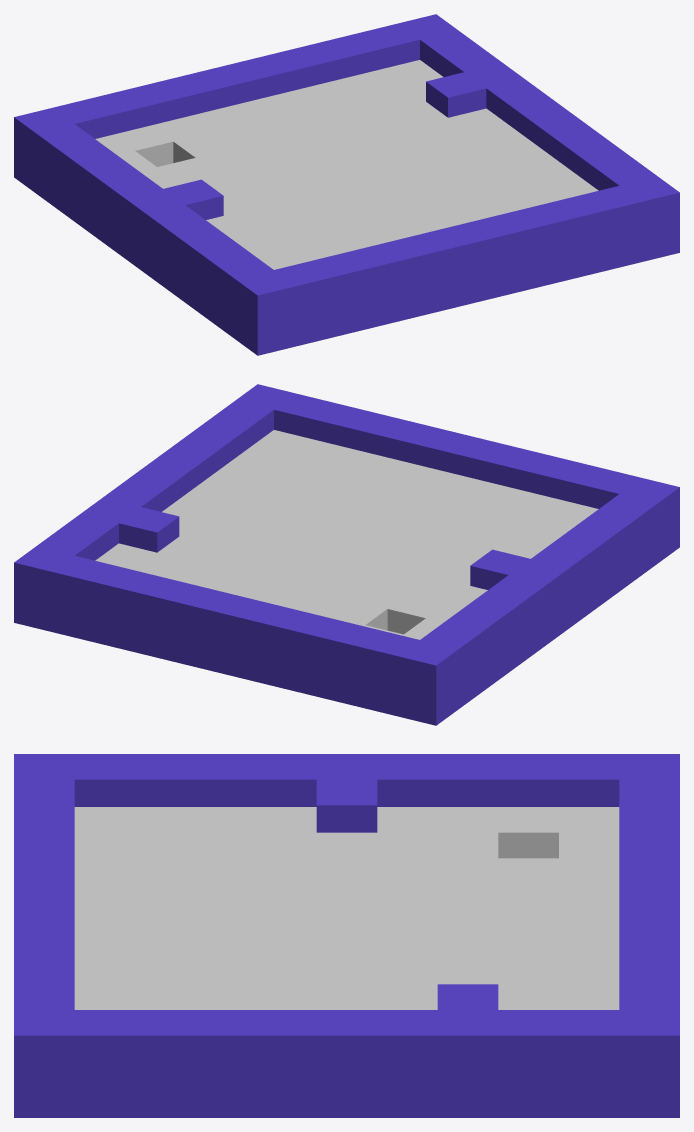
File: platform_001.fbx
3 renders of one model, top to bottom at view 1: azimuth 30°, elevation 25°; view 2: azimuth 150°, elevation 25°; view 3: azimuth 270°, elevation 25°, orthographic. The views are drawn at different scales.
Parts seen in each view (by area): view 1: Cube.001; view 2: Cube.001; view 3: Cube.001.
Boxes of the visible parts, x1,y1,x2,y2 form: Cube.001: (14,14,679,355); Cube.001: (14,384,679,725); Cube.001: (14,754,679,1117).
Size of the model in its own units: 1100 by 150 by 1100.
